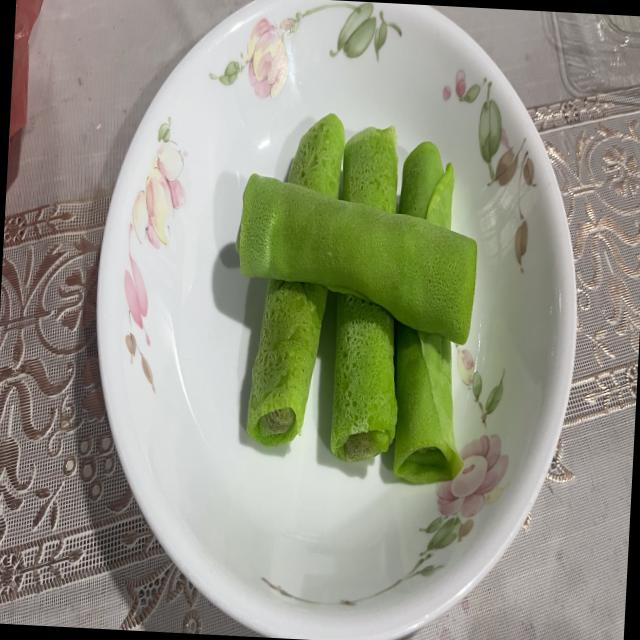Kuih-Ketayap: (239, 174, 477, 343), (247, 280, 328, 447), (331, 294, 398, 462), (394, 322, 462, 484), (288, 114, 345, 199), (343, 126, 398, 213), (400, 141, 454, 229)
